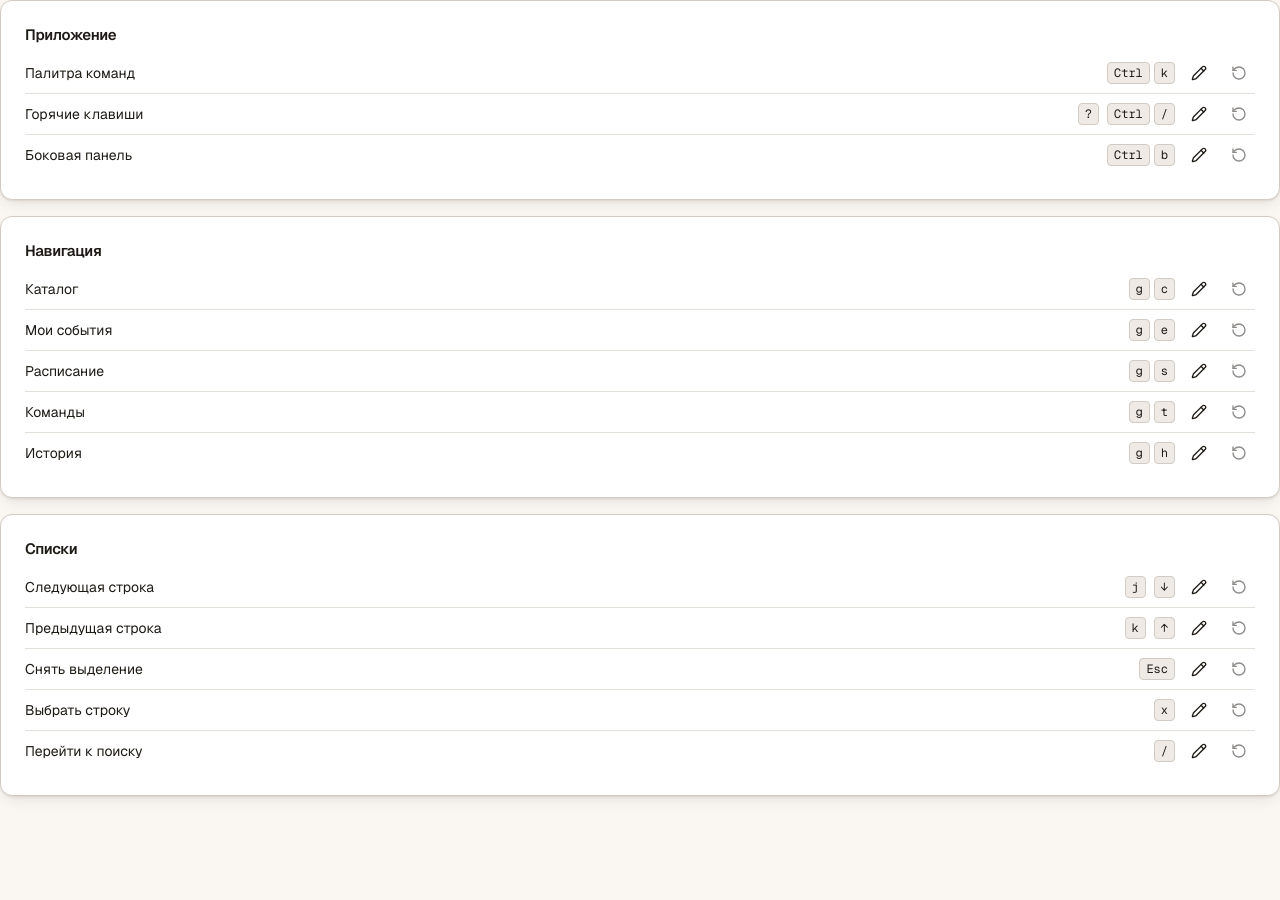
it: refusing a combination, and saying why › refuses a combination the browser takes, and says so
The image size is (1280, 900).
Click the button named "Изменить «Палитра команд»": x=1199, y=73 [1183,57,1215,89]
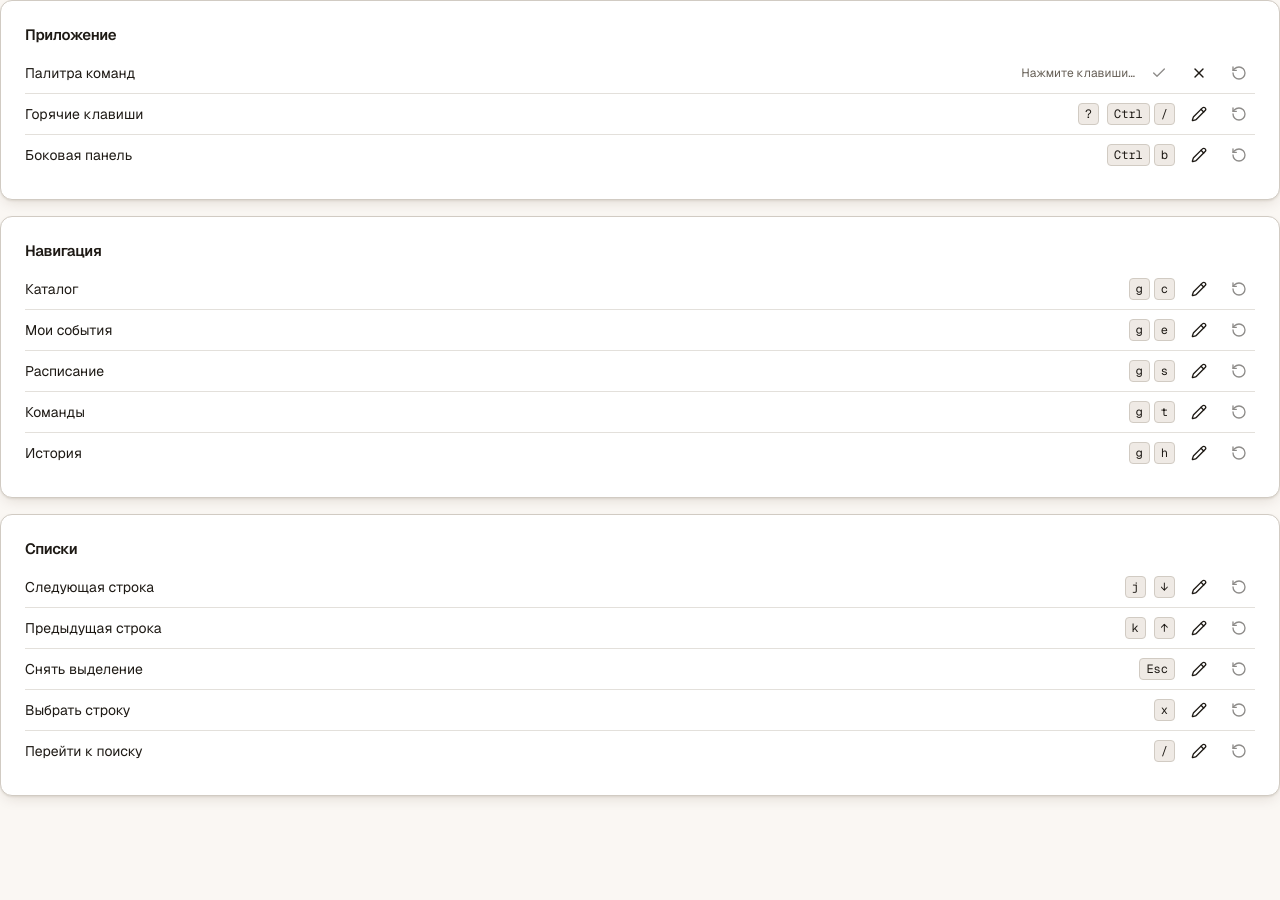
Type keys "{Control>}w{/Control}"
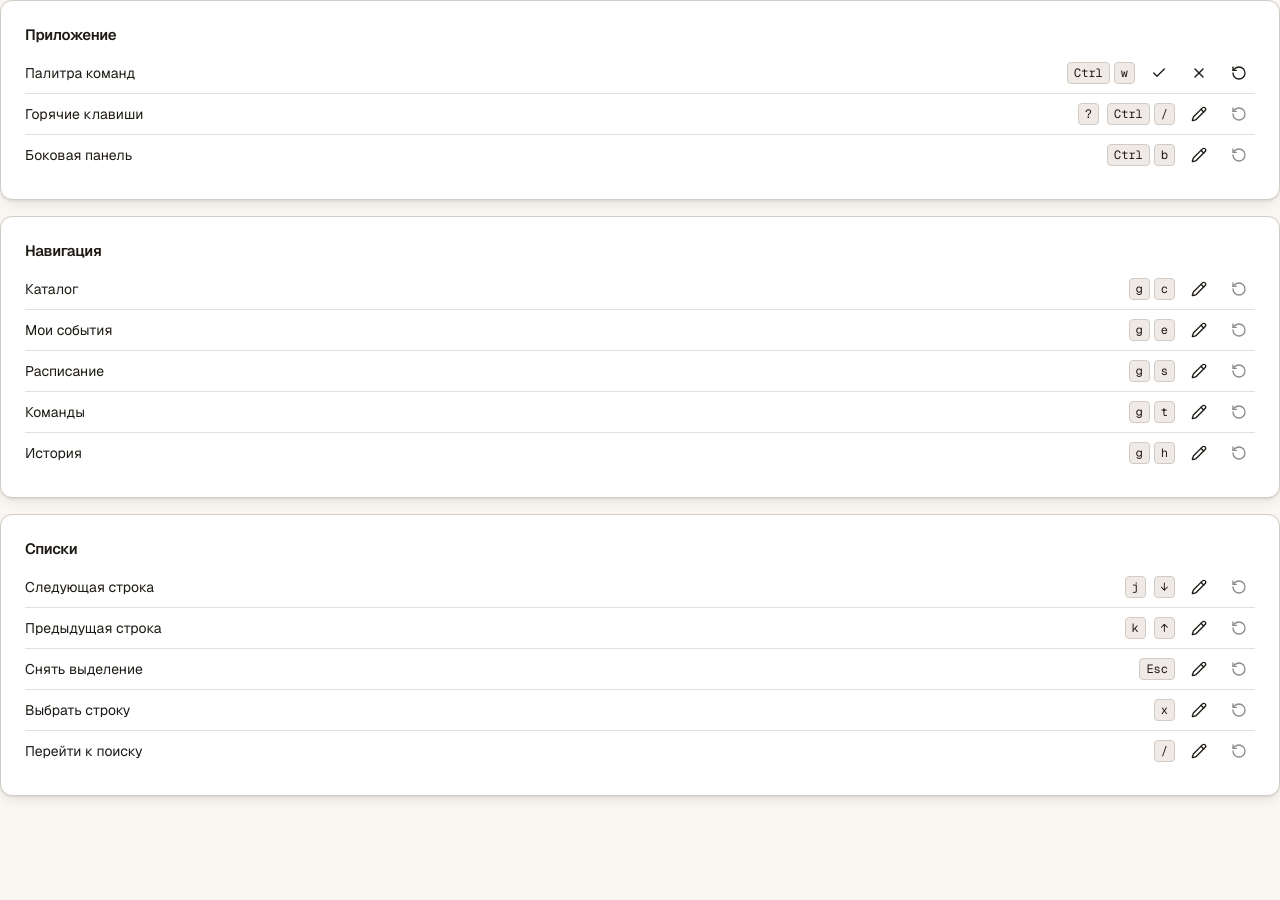
Click the button named "Сохранить «Палитра команд»": x=1159, y=73 [1143,57,1175,89]
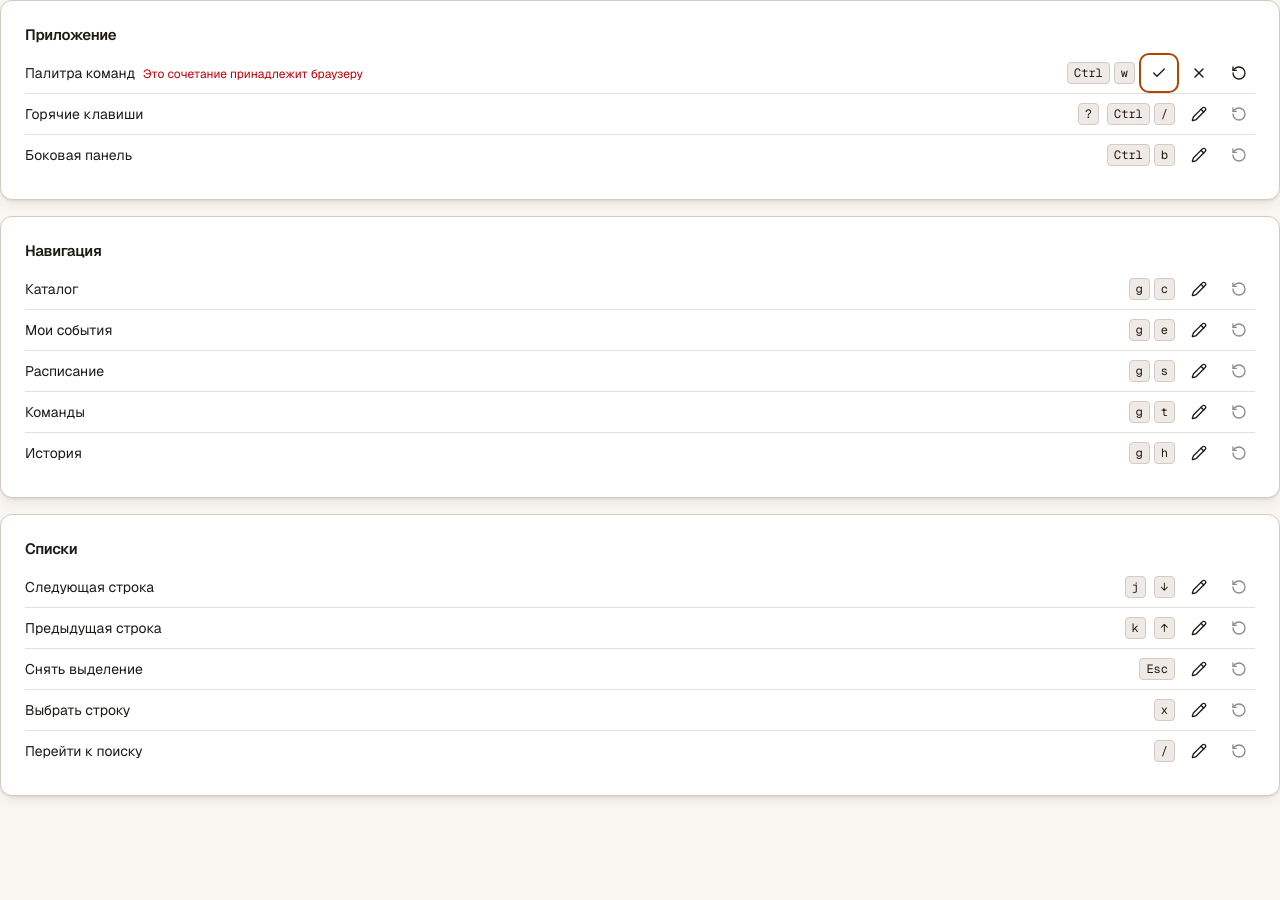
Check: the message reads "Это сочетание принадлежит браузеру", box [143,66,363,82]
